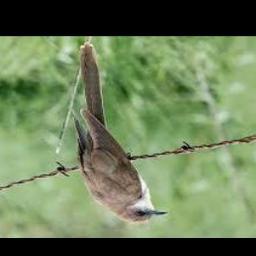Cuckoo: (74, 41, 169, 224)
